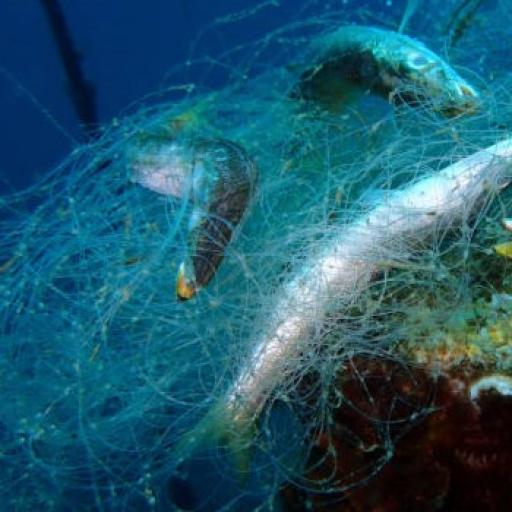net: (3, 4, 506, 512)
